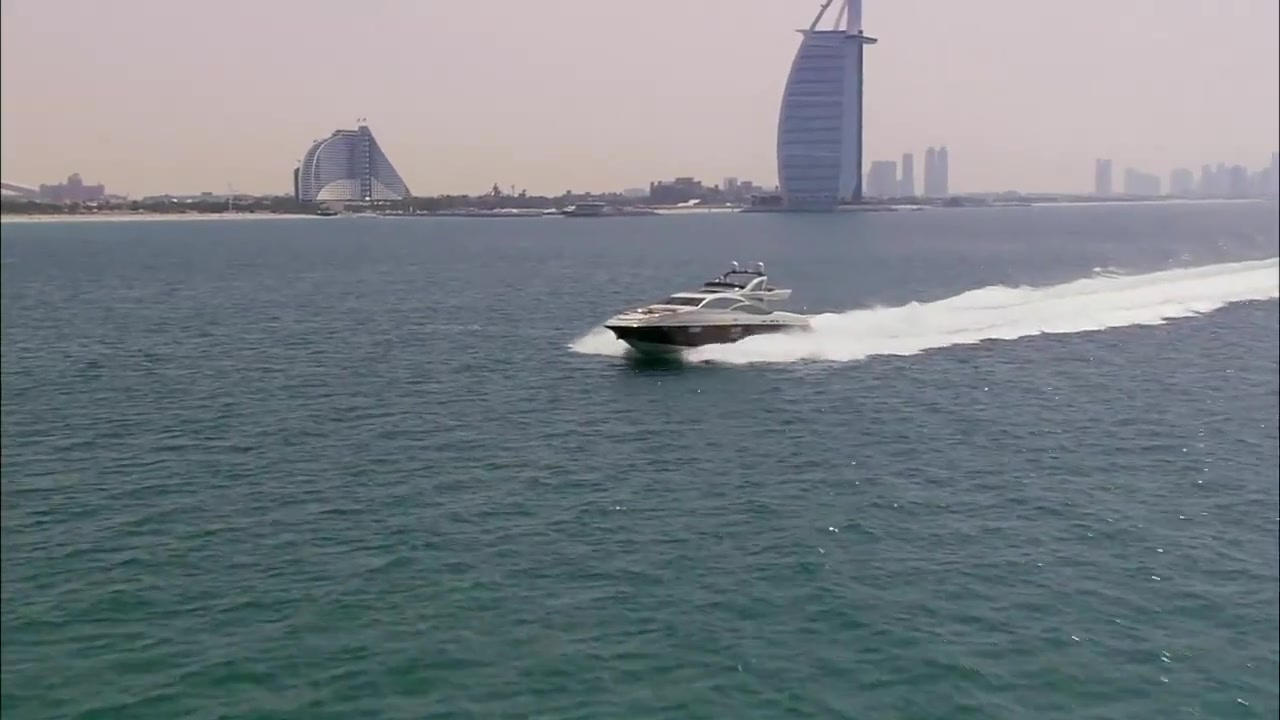boat: (607, 260, 820, 363), (560, 198, 618, 225), (313, 206, 350, 224)
